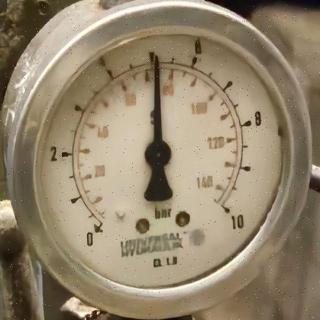gauge: (20, 19, 301, 308), (202, 187, 248, 235), (76, 209, 116, 251), (143, 138, 173, 168), (146, 46, 162, 66)
